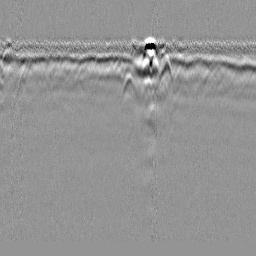cavity: (119, 72, 138, 102)
